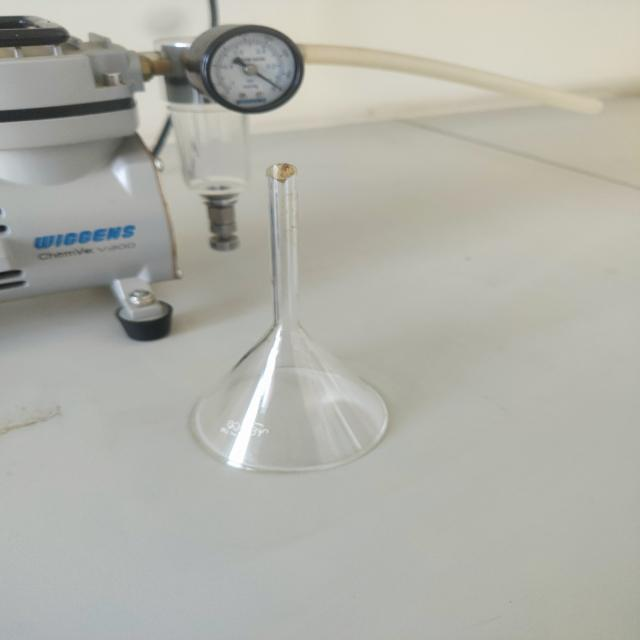Funnel: (146, 132, 430, 502)
